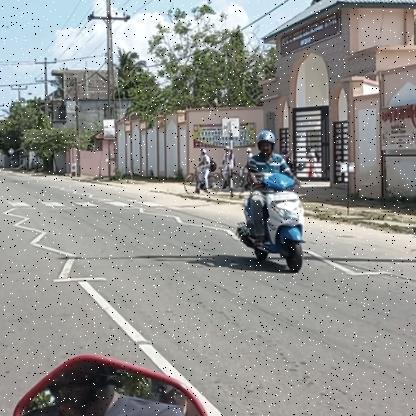motorcycle: (235, 172, 312, 273)
